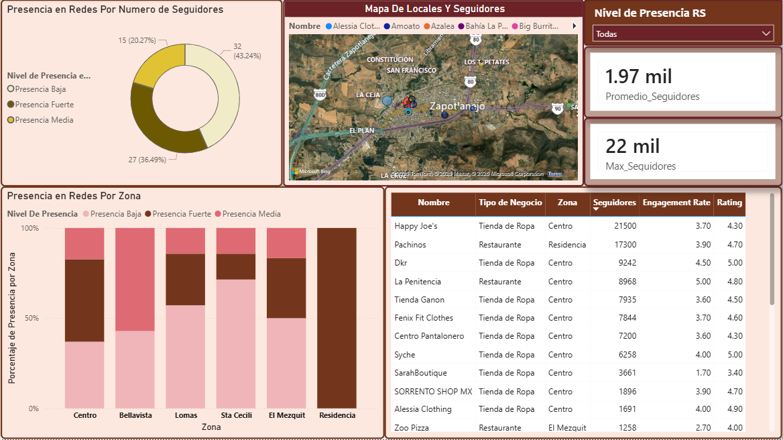

The dashboard page shown, as its layout file describes it:
{"tool":"powerbi","page":{"name":"REDES","canvas":[1280,720],"ordinal":2},"visuals":[{"type":"donutChart","title":"Presencia en Redes Por Numero de Seguidores","fields":{"Category":["Presencia Posicionamiento Digital.Nivel_Presencia_RS"],"Y":["_Medidas.Total_Locales"]},"box":[0,0,462,306.5],"z":0},{"type":"hundredPercentStackedColumnChart","title":"Presencia en Redes Por Zona","fields":{"Category":["Geografia.Nombre_Zona"],"Series":["Presencia Posicionamiento Digital.Nivel_Presencia_RS"],"Y":["CountNonNull(Establecimiento.Nombre)"]},"box":[0,306.5,629.1,413.6],"z":1000},{"type":"tableEx","fields":{"Values":["Establecimiento.Nombre","TipoNegocio.Nombre","Geografia.Nombre_Zona","Presencia Posicionamiento Digital.Seguidores","Presencia Posicionamiento Digital.Engagement_Rate","Presencia Posicionamiento Digital.Rating_Promedio"]},"box":[629.1,306.5,651.1,413.6],"z":2000},{"type":"slicer","title":"Holi","fields":{"Values":["Presencia Posicionamiento Digital.Nivel_Presencia_RS"]},"box":[954.7,0,325.6,76.3],"z":3000},{"type":"cardVisual","fields":{"Data":["_Medidas.Promedio_Seguidores"]},"box":[954.7,76.3,325.6,117.3],"z":4000},{"type":"cardVisual","fields":{"Data":["_Medidas.Max_Seguidores"]},"box":[954.7,193.6,325.6,112.9],"z":5000},{"type":"map","title":"Mapa De Locales Y Seguidores","fields":{"Category":["Sucursal.Direccion"],"Series":["Establecimiento.Nombre"],"Size":["Sum(Presencia Posicionamiento Digital.Seguidores)"]},"box":[462,0,492.8,306.5],"z":6000}]}

Visuals, with their boxes in screenshot pixels (x1, y1, x2, y2), scaled from the page's 1280x720 canvas onto the 783x440 screenshot:
"Presencia en Redes Por Numero de Seguidores" donutChart: Rect(0, 0, 283, 187)
"Presencia en Redes Por Zona" hundredPercentStackedColumnChart: Rect(0, 187, 385, 439)
tableEx - Establecimiento.Nombre x TipoNegocio.Nombre: Rect(385, 187, 782, 439)
"Holi" slicer: Rect(584, 0, 782, 47)
cardVisual - _Medidas.Promedio_Seguidores: Rect(584, 47, 782, 118)
cardVisual - _Medidas.Max_Seguidores: Rect(584, 118, 782, 187)
"Mapa De Locales Y Seguidores" map: Rect(283, 0, 584, 187)
